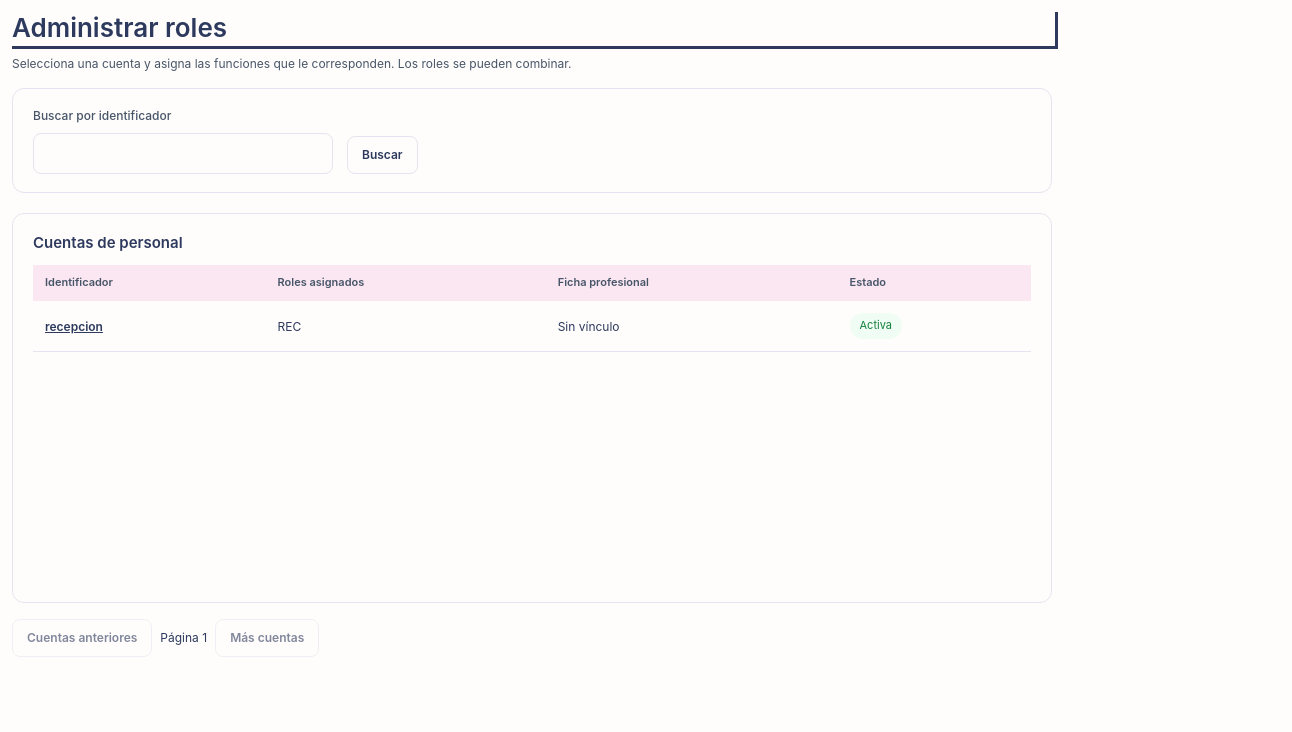
Test: Administración de roles › explica el rechazo al retirar el último administrador
Step 1. Click the button with aria-label "recepcion · Activa" → (74, 326), box [45, 311, 103, 341]
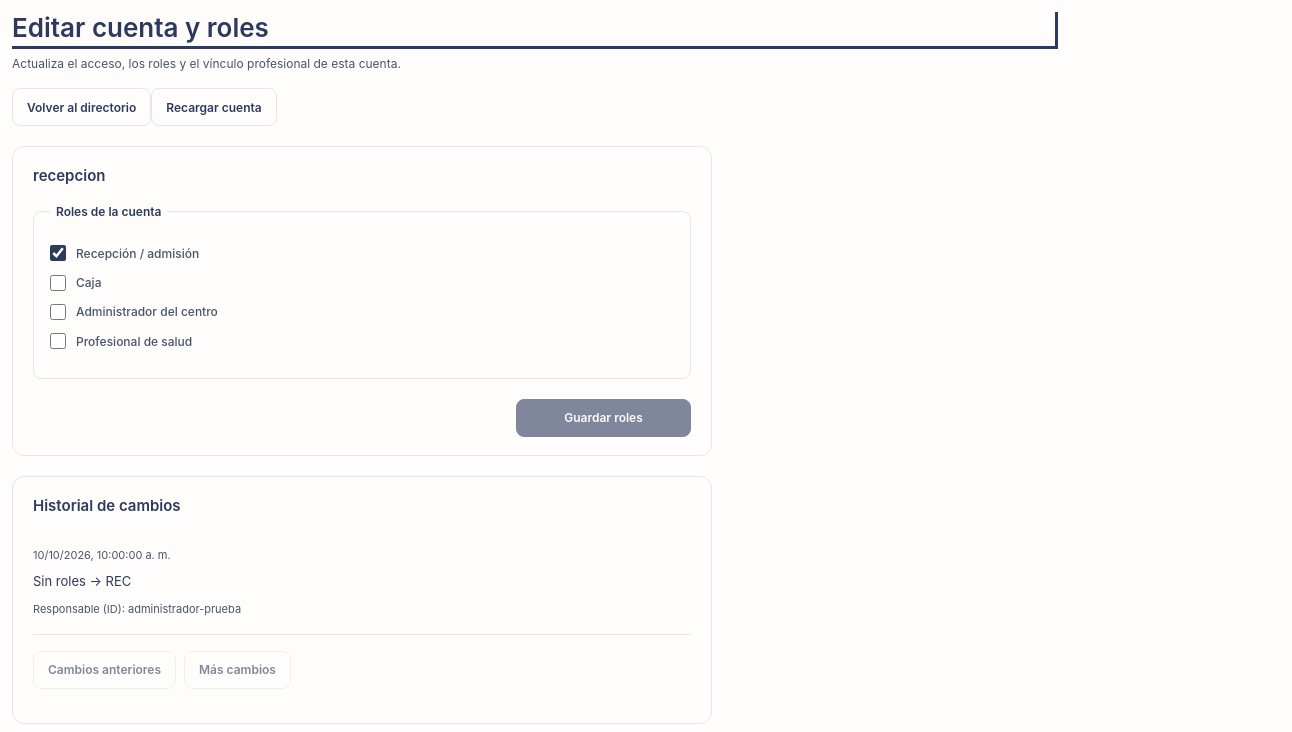
Now the checkbox labelled "Caja" is shown
Step 2. Click the checkbox labelled "Caja" → (58, 283), box [50, 275, 66, 291]
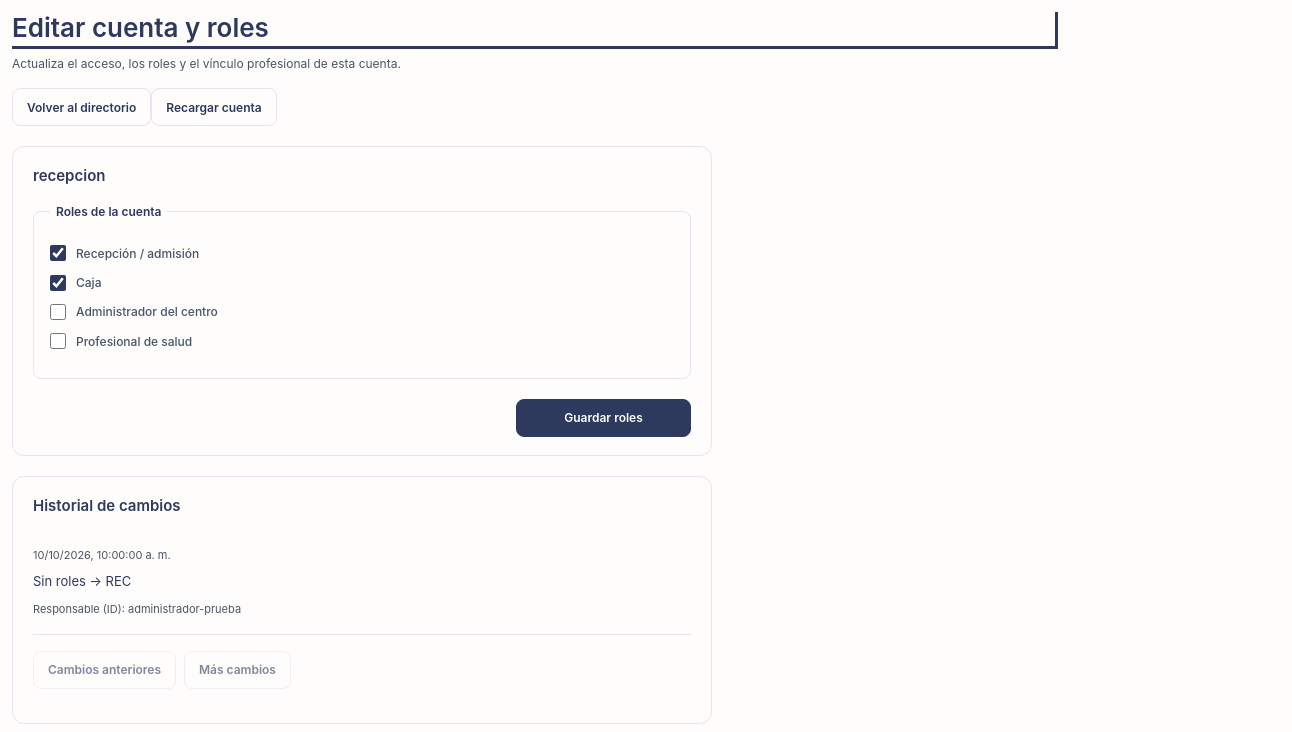
Step 3. Click the button "Guardar roles" → (604, 418), box [516, 399, 691, 437]
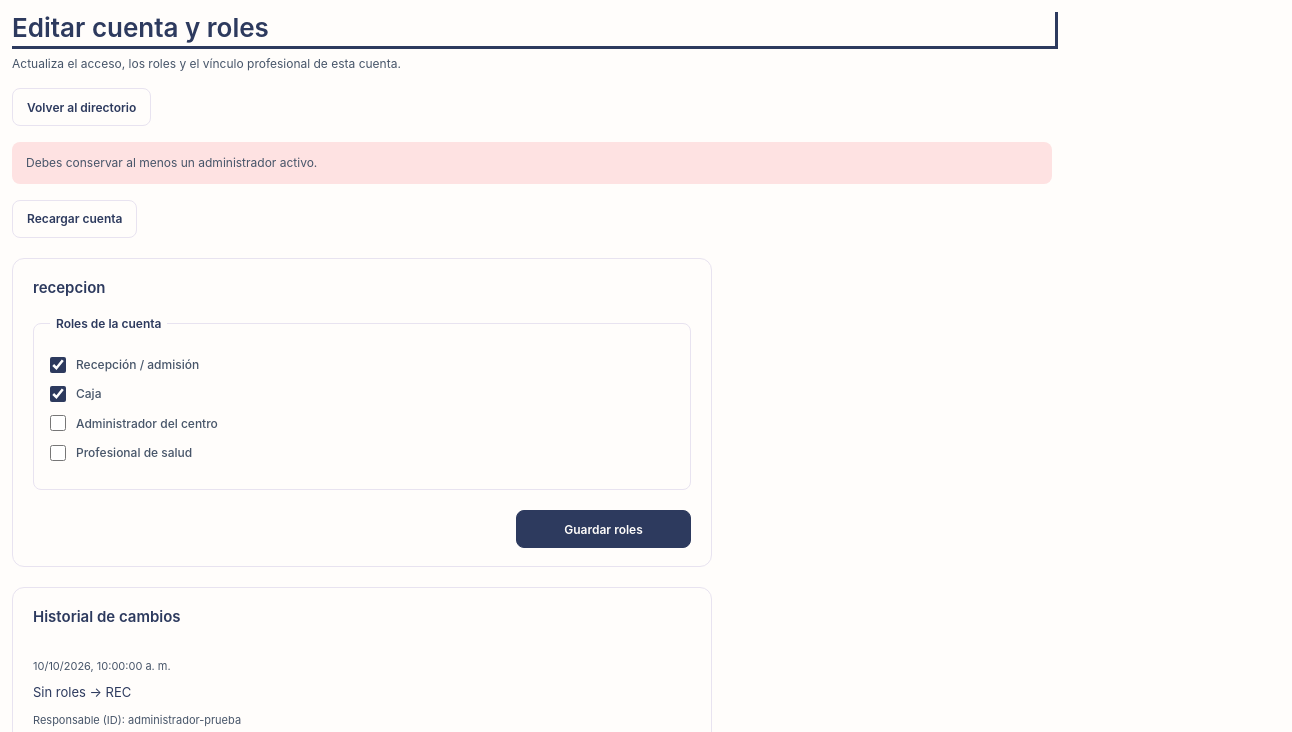
Now the message shows "al menos un administrador activo", box [26, 155, 317, 170]
